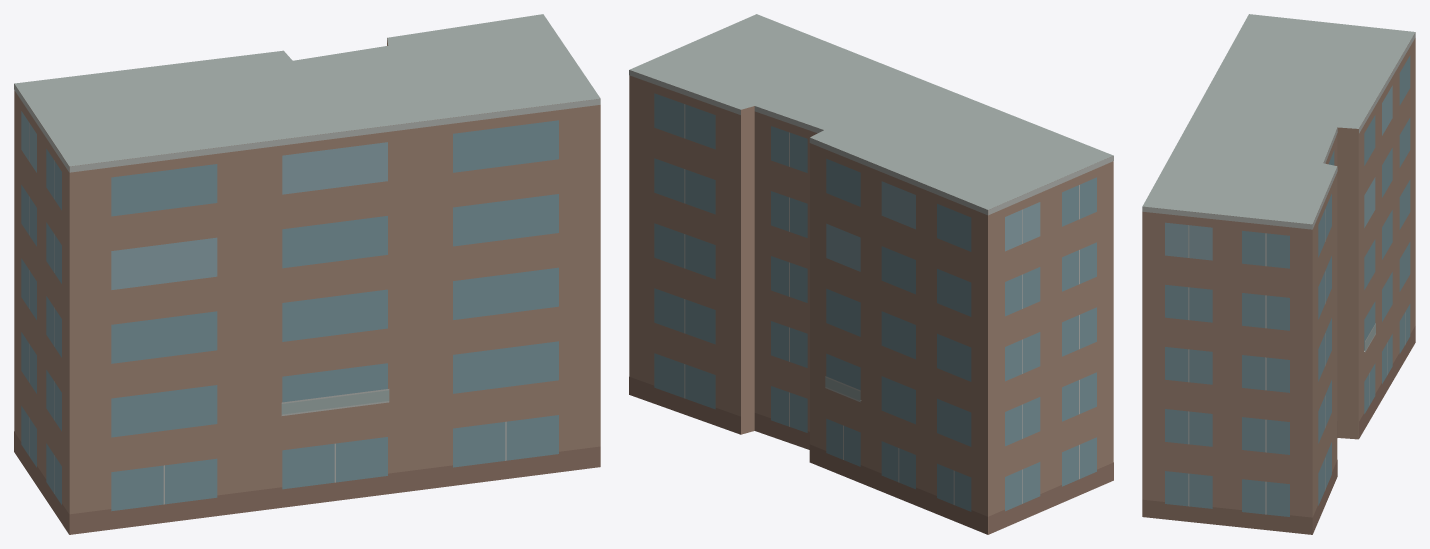
Rendered from survey-upis-32634795.glb.
3 renders of one model, left to right at view 1: azimuth 30°, elevation 25°; view 2: azimuth 150°, elevation 25°; view 3: azimuth 270°, elevation 25°, orthographic. The views are drawn at different scales.
Visible parts, largest first — view 1: survey-upis-32634795.tmp; view 2: survey-upis-32634795.tmp; view 3: survey-upis-32634795.tmp.
Boxes of the visible parts, x1,y1,x2,y2 form: survey-upis-32634795.tmp: (14, 14, 600, 534); survey-upis-32634795.tmp: (629, 14, 1113, 534); survey-upis-32634795.tmp: (1142, 14, 1415, 534).
Bounding box in the file's own units: 21.09 × 14.5 × 11.58.
